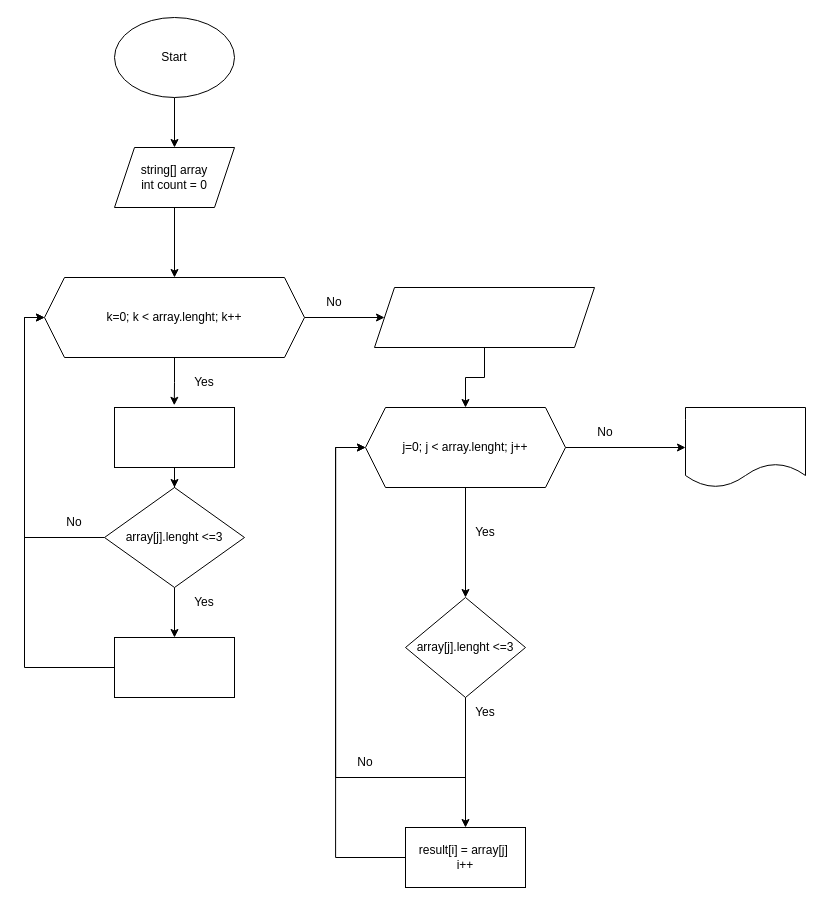
Some shapes in this 823 by 905 pixel diagram are drawn without their labels. The shapes that lost their labels are listed below. From the top down, each one's box as (x1, y1, x2, y2) in pixels, then its label:
(374, 286, 594, 348): string[] result = new string [conut] int i = 0
(114, 406, 234, 468): Добавить строку в массив
(684, 406, 806, 488): Вернуть result
(114, 636, 234, 698): count++
